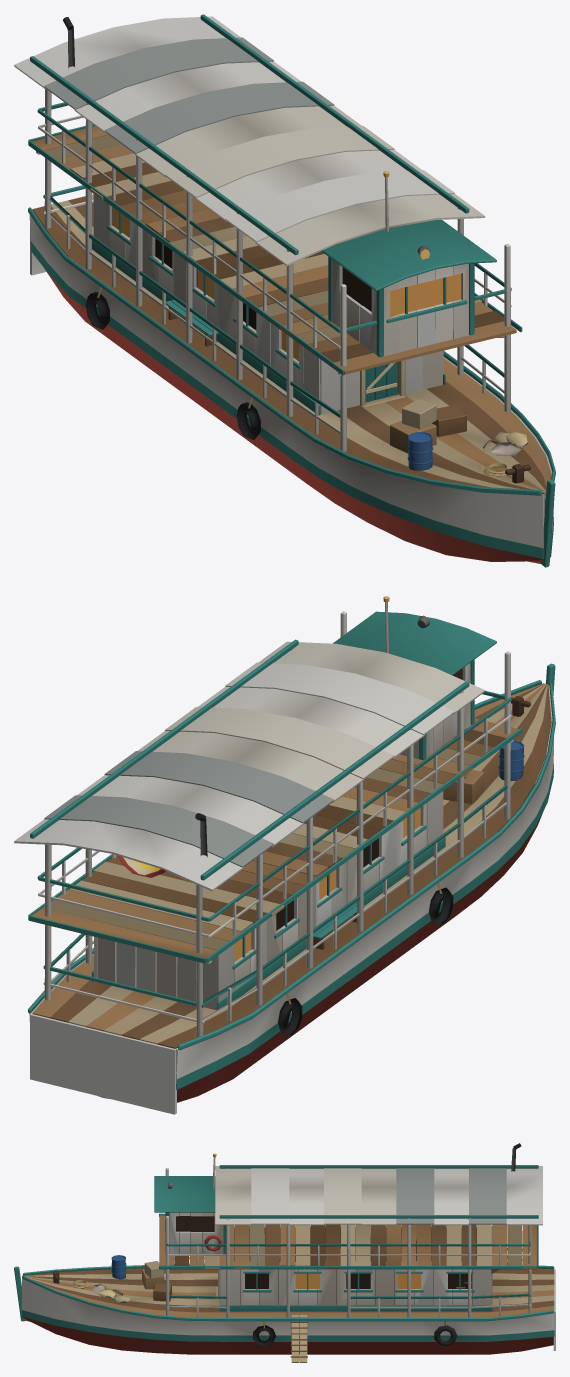
The model's file is riverboat.glb.
The picture shows the model from 3 angles, top to bottom: view 1: azimuth 30°, elevation 25°; view 2: azimuth 150°, elevation 25°; view 3: azimuth 270°, elevation 25°; orthographic projection. The views are drawn at different scales.
Visible parts, largest first — view 1: riverboat; view 2: riverboat; view 3: riverboat.
Boxes of the visible parts, x1,y1,x2,y2 form: riverboat: [14, 14, 555, 567]; riverboat: [14, 596, 555, 1114]; riverboat: [14, 1143, 555, 1362].
Bounding box in the file's own units: 8.18 × 8.34 × 22.42.
